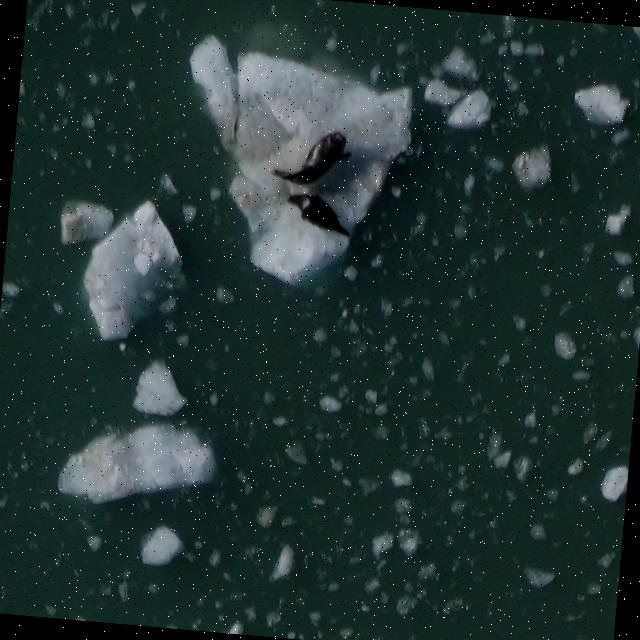seal: (268, 121, 357, 191), (278, 188, 360, 240)
